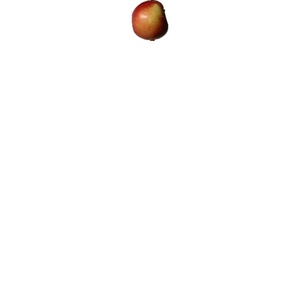maçã braeburn: (129, 1, 170, 42)
